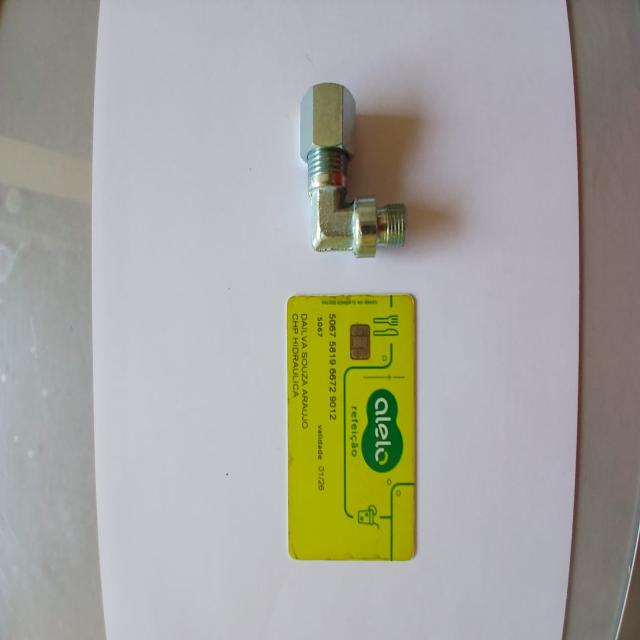cartao: (288, 292, 415, 559)
rosca_externa: (299, 82, 407, 261)
